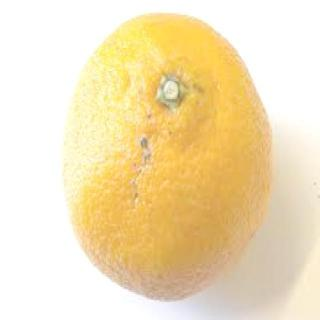orange: (38, 5, 286, 320)
